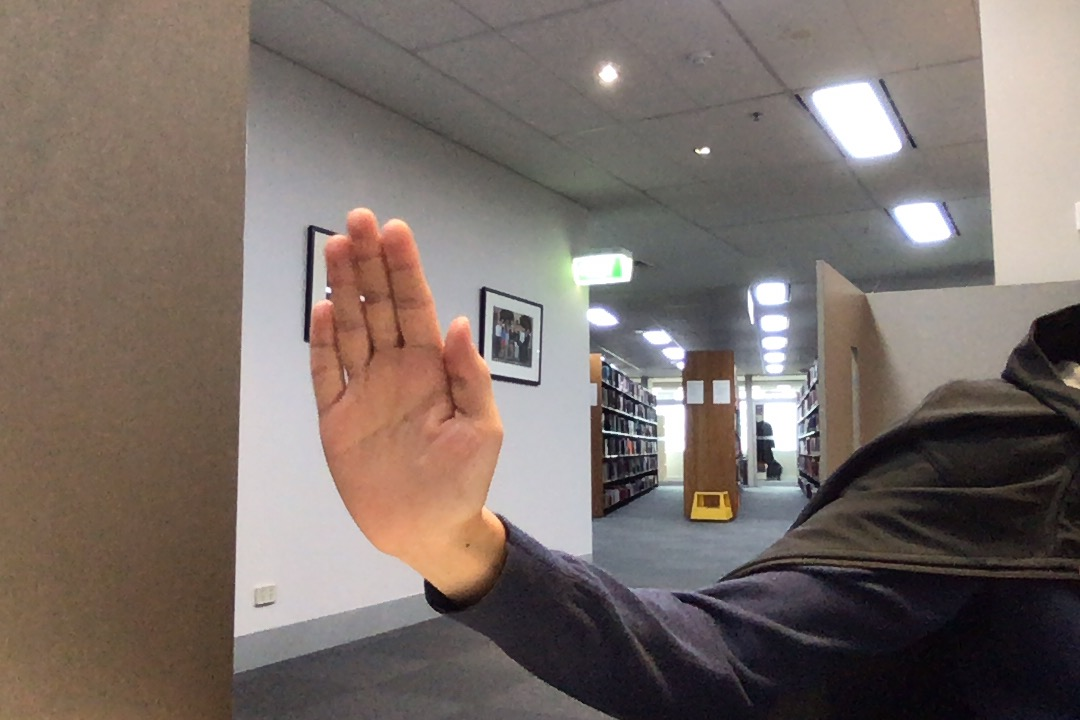palmhand: (301, 204, 511, 564)
